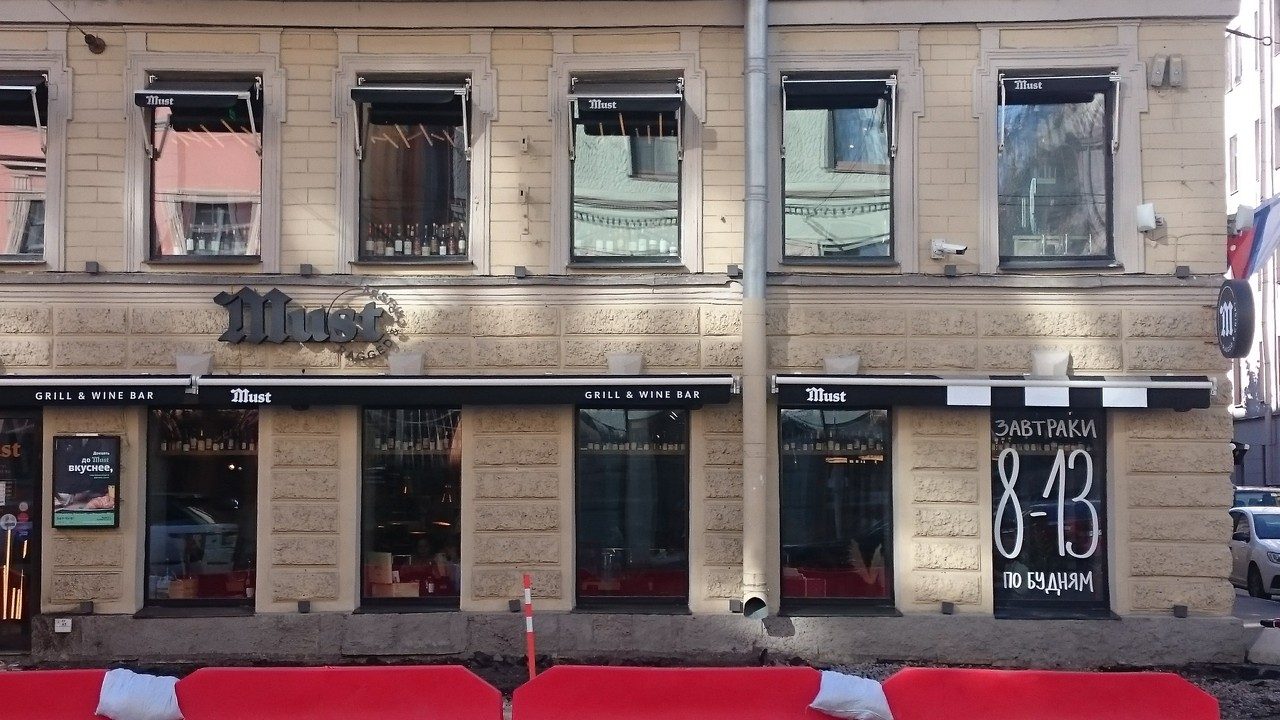cantilever: (1207, 275, 1255, 358)
signboard: (214, 287, 384, 344)
window: (991, 410, 1112, 612), (142, 404, 260, 609), (577, 405, 691, 602), (779, 406, 893, 602), (144, 81, 262, 261), (357, 407, 460, 609), (357, 87, 470, 265), (787, 77, 894, 264), (1003, 78, 1108, 267), (571, 83, 680, 260)
